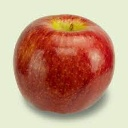apple: (13, 15, 116, 113)
